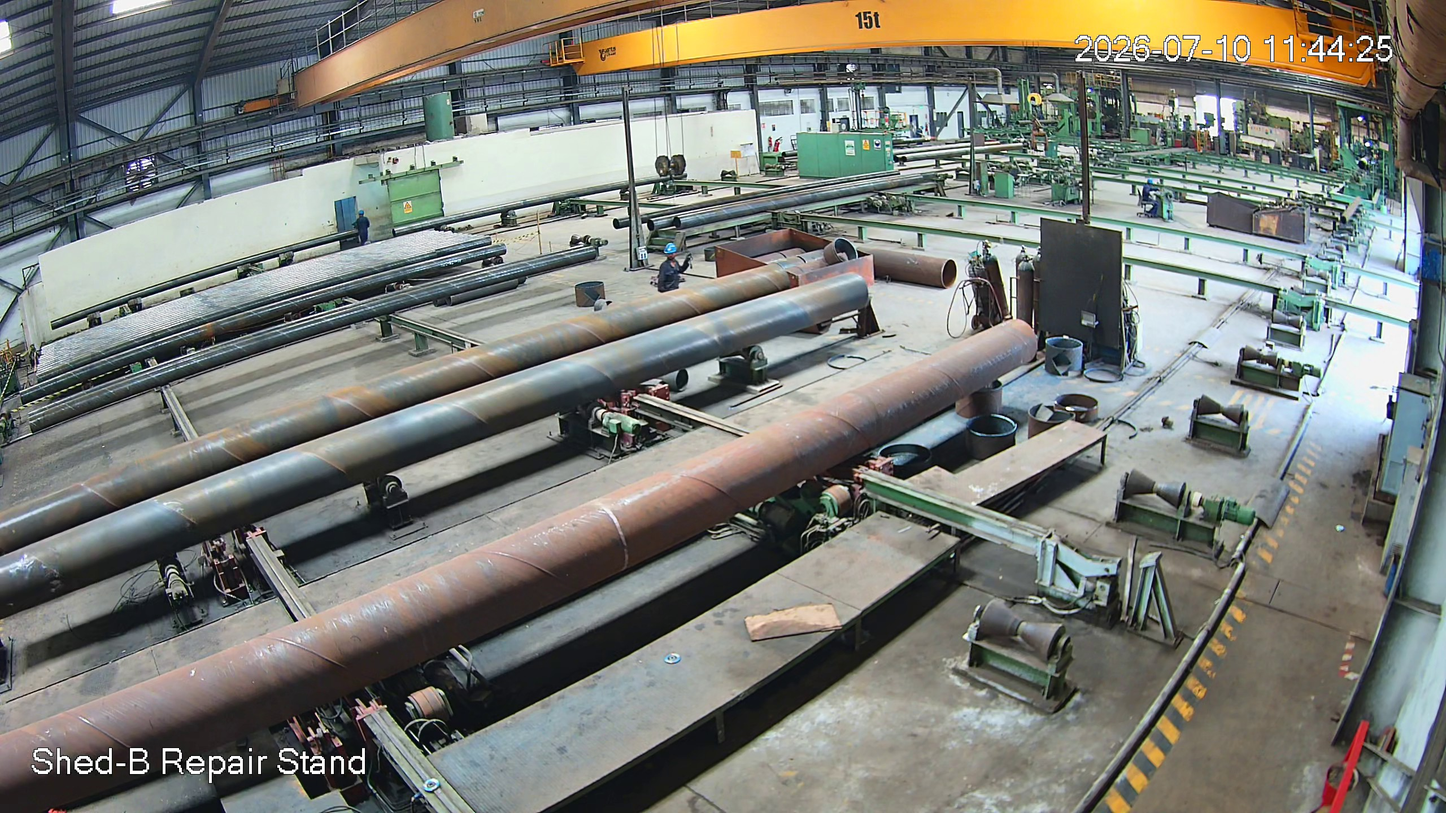Helmet: (663, 238, 683, 265), (1144, 175, 1156, 192), (357, 209, 370, 224)
Person: (653, 242, 695, 296), (1139, 178, 1165, 219), (353, 211, 374, 244)
